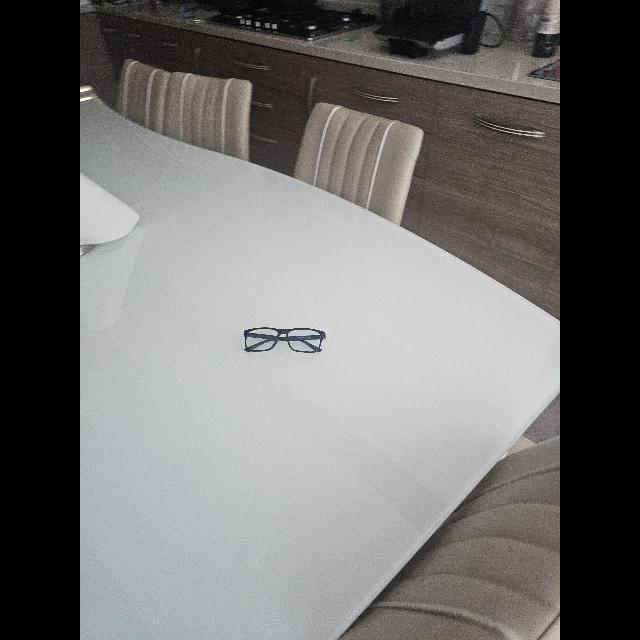glasses: (244, 328, 326, 352)
